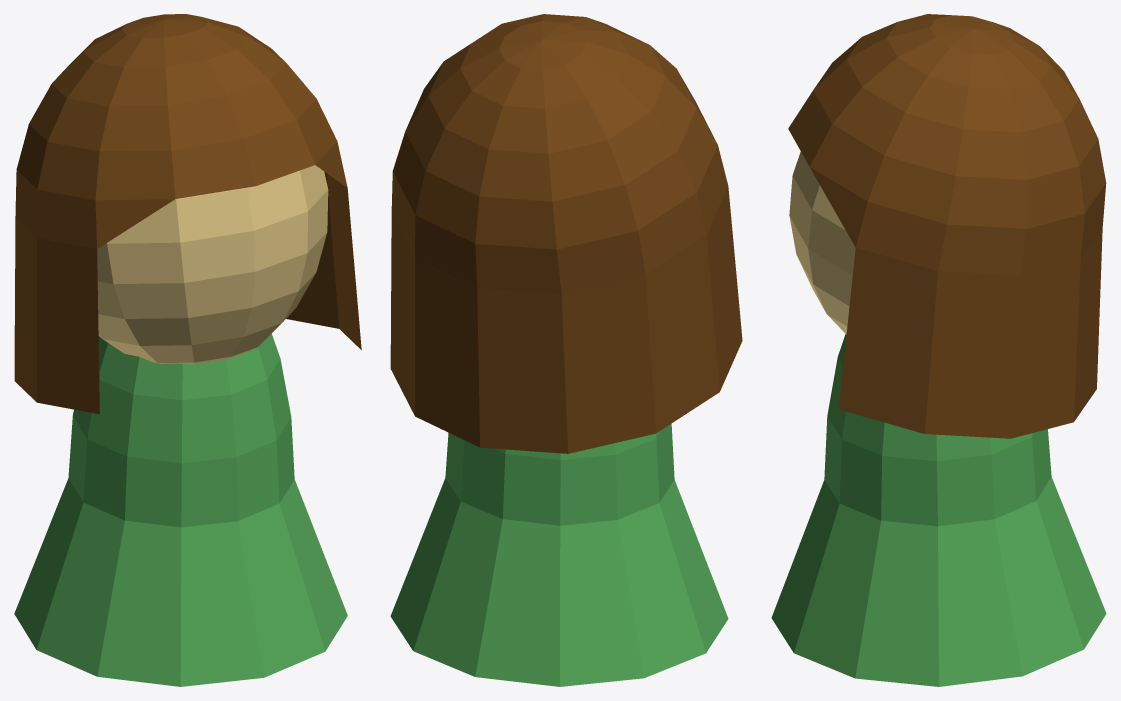
Rendered from girl.fbx.
3 views of the same model, side by side, from view 1: azimuth 30°, elevation 25°; view 2: azimuth 150°, elevation 25°; view 3: azimuth 270°, elevation 25° (orthographic).
Parts seen in each view (by area): view 1: Sphere.001, Sphere.002, Sphere; view 2: Sphere.002, Sphere.001; view 3: Sphere.002, Sphere.001, Sphere.
Part boxes in pixels (x1,y1,x2,y2): Sphere.001: (14, 333, 347, 686); Sphere.002: (14, 14, 361, 414); Sphere: (97, 165, 328, 364); Sphere.002: (390, 14, 742, 453); Sphere.001: (390, 423, 728, 686); Sphere.002: (788, 14, 1106, 438); Sphere.001: (771, 334, 1106, 686); Sphere: (789, 151, 855, 334).
Bounding box in the file's own units: 269 × 501 × 257.
